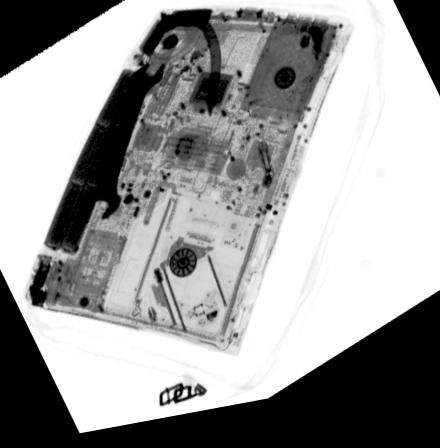Wrench: (82, 67, 164, 224)
